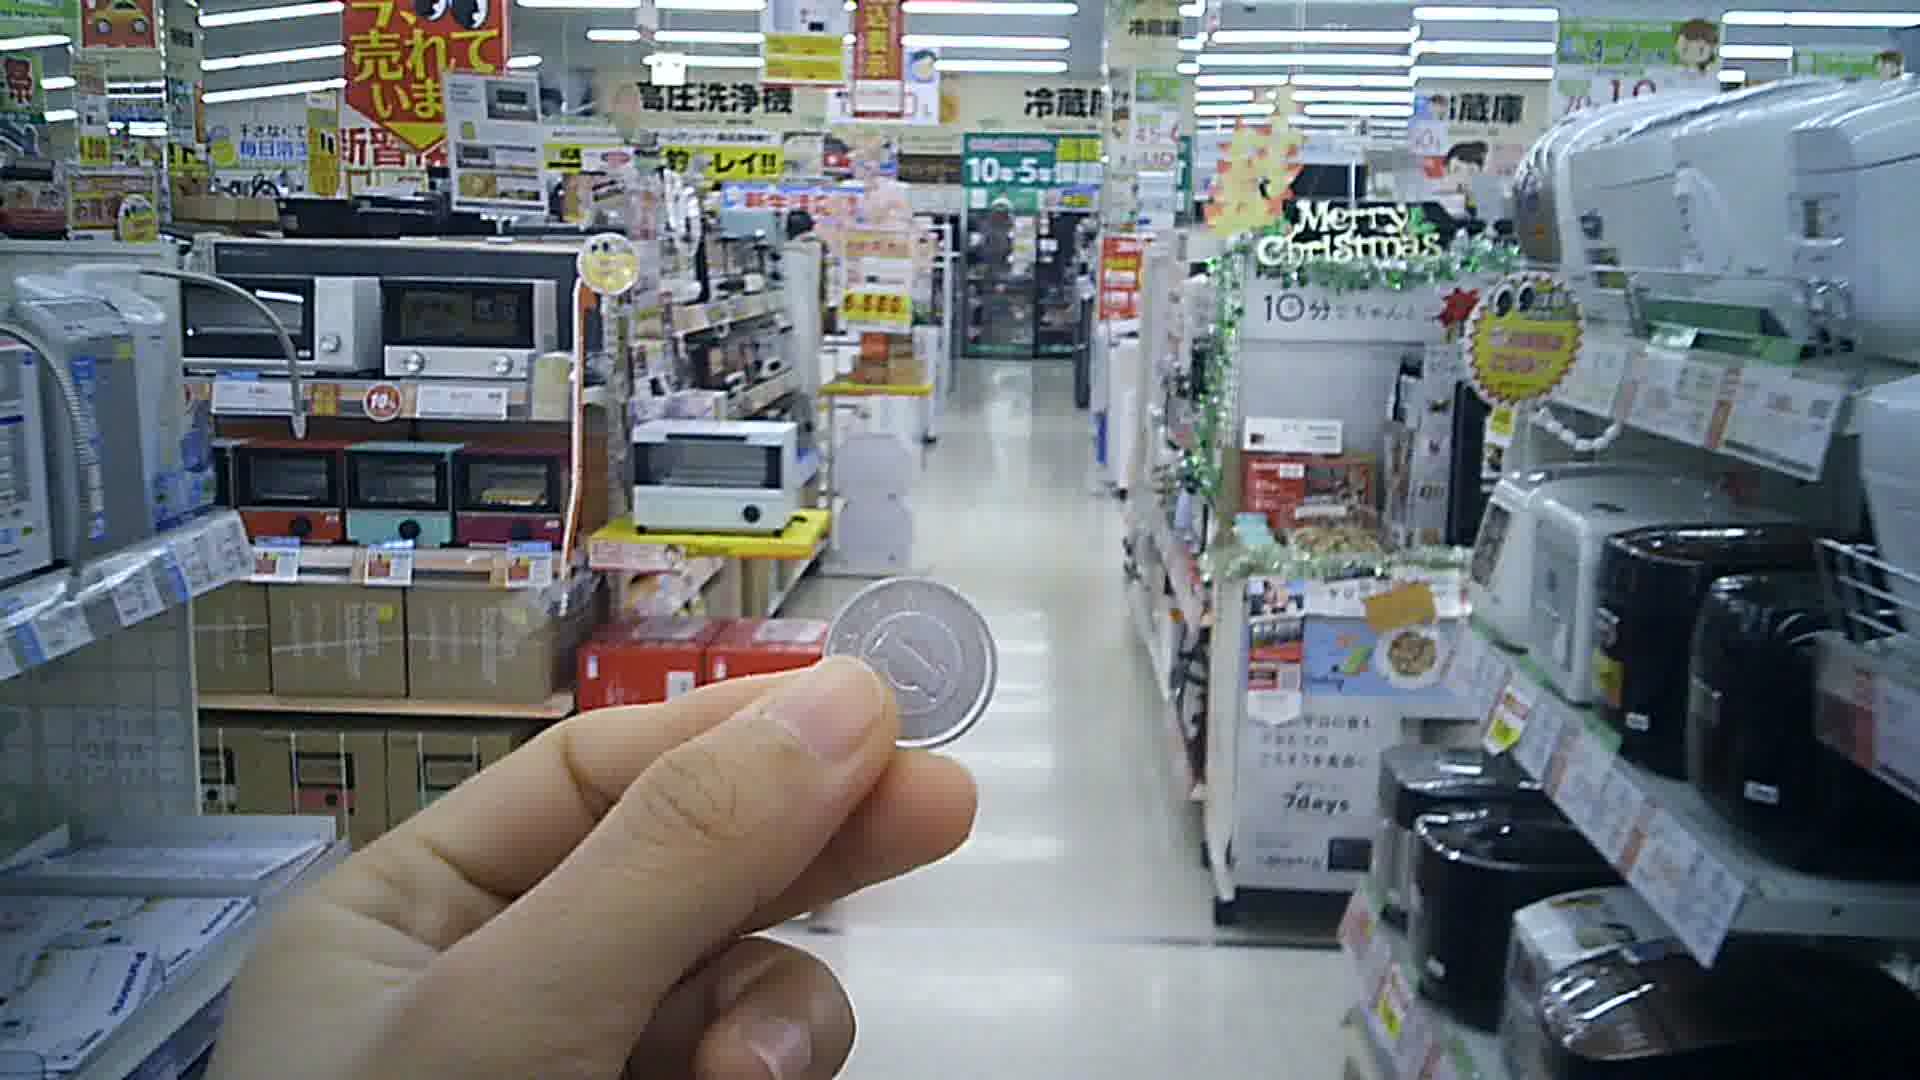1 Yen: (827, 574, 993, 756)
